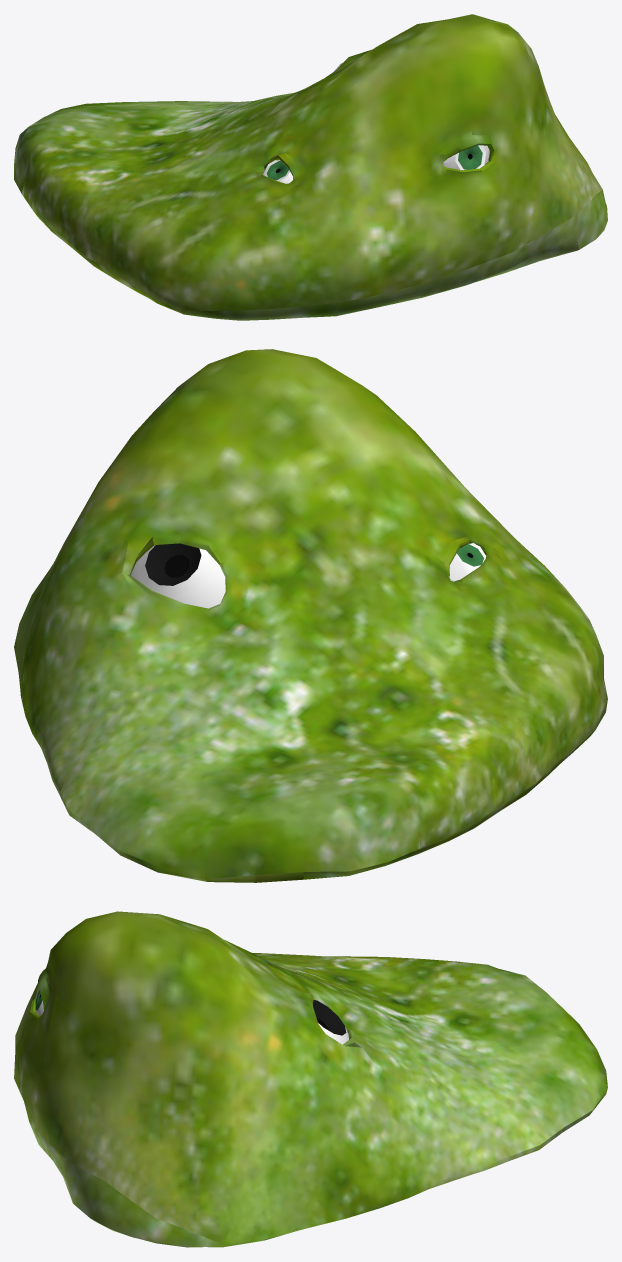
File: slime_v013_move.fbx
The picture shows the model from 3 angles, top to bottom: view 1: azimuth 30°, elevation 25°; view 2: azimuth 150°, elevation 25°; view 3: azimuth 270°, elevation 25°; orthographic projection. The views are drawn at different scales.
Visible parts, largest first — view 1: Slime; view 2: Slime; view 3: Slime.
Boxes of the visible parts, x1,y1,x2,y2 form: Slime: (14, 14, 607, 320); Slime: (14, 349, 607, 882); Slime: (14, 911, 607, 1247).
Size of the model in its own units: 719 by 353 by 757.
